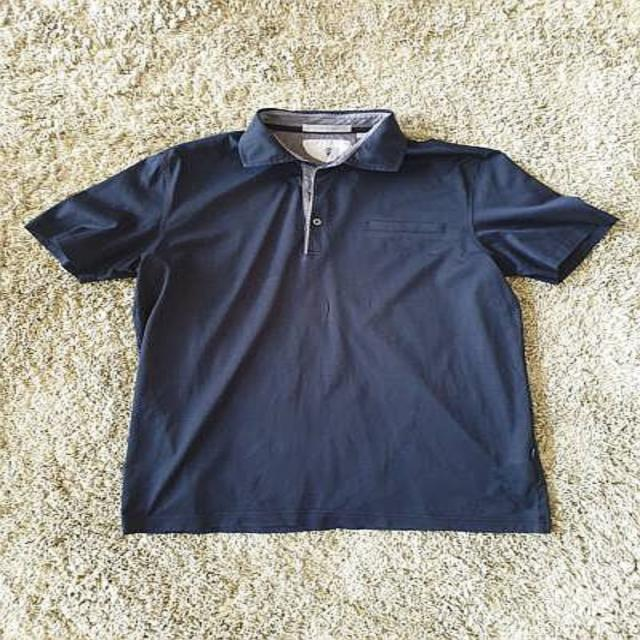T_SHIRT: (14, 100, 624, 542)
